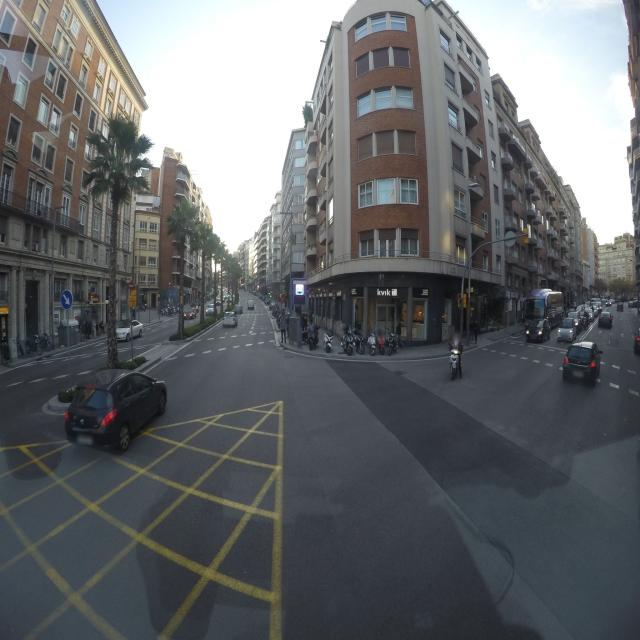bike: (448, 348, 464, 381), (322, 328, 336, 354), (342, 326, 354, 356), (386, 328, 399, 354), (308, 324, 320, 350), (366, 328, 377, 356), (354, 328, 364, 355), (378, 329, 385, 355)
car: (64, 369, 168, 453), (562, 344, 601, 386), (112, 318, 143, 342), (525, 317, 551, 343), (556, 318, 576, 342), (597, 311, 613, 329), (222, 312, 237, 328), (633, 324, 640, 356), (182, 308, 195, 319), (628, 297, 638, 309), (247, 300, 254, 310)
